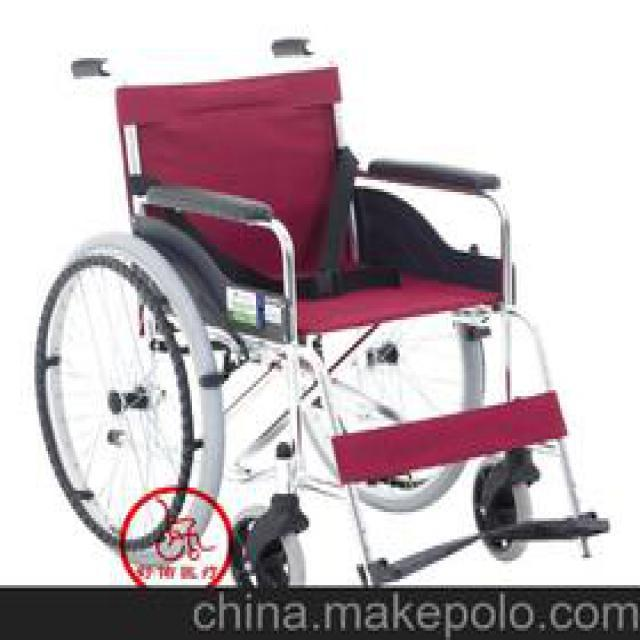wheelchair: (41, 27, 624, 579)
